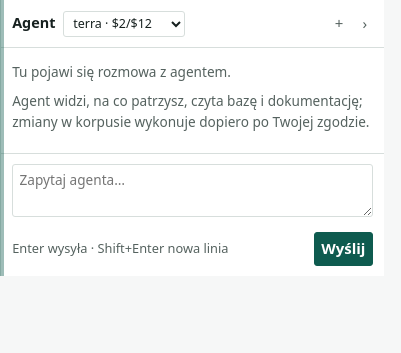
Test case: panel na żywo › wywołanie narzędzia to chip, tekst dopisuje się, przejście dopiero po done
Type "pokaż inspektor" into the text box named "Wiadomość do agenta" at (192, 190), box x1=12 y1=164 x2=373 y2=217
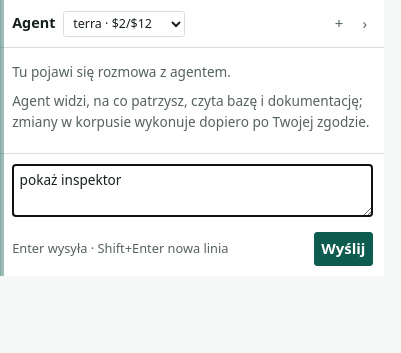
Click the button "Wyślij" at (343, 249), box x1=314 y1=232 x2=373 y2=266
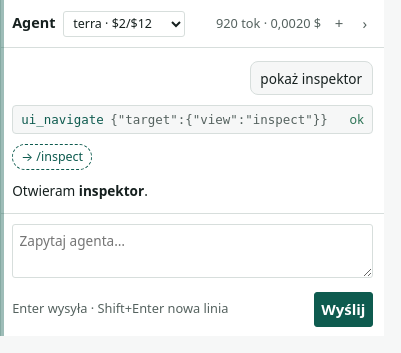
Now the element showing "ui_navigate {\"target\":{\"view\":\"inspect\"}} ok" is shown, box x1=12 y1=105 x2=373 y2=134
Now the text "inspektor" is shown, box x1=79 y1=180 x2=144 y2=200
Now the text "920 tok · 0,0020 $" is shown, box x1=216 y1=14 x2=321 y2=34
